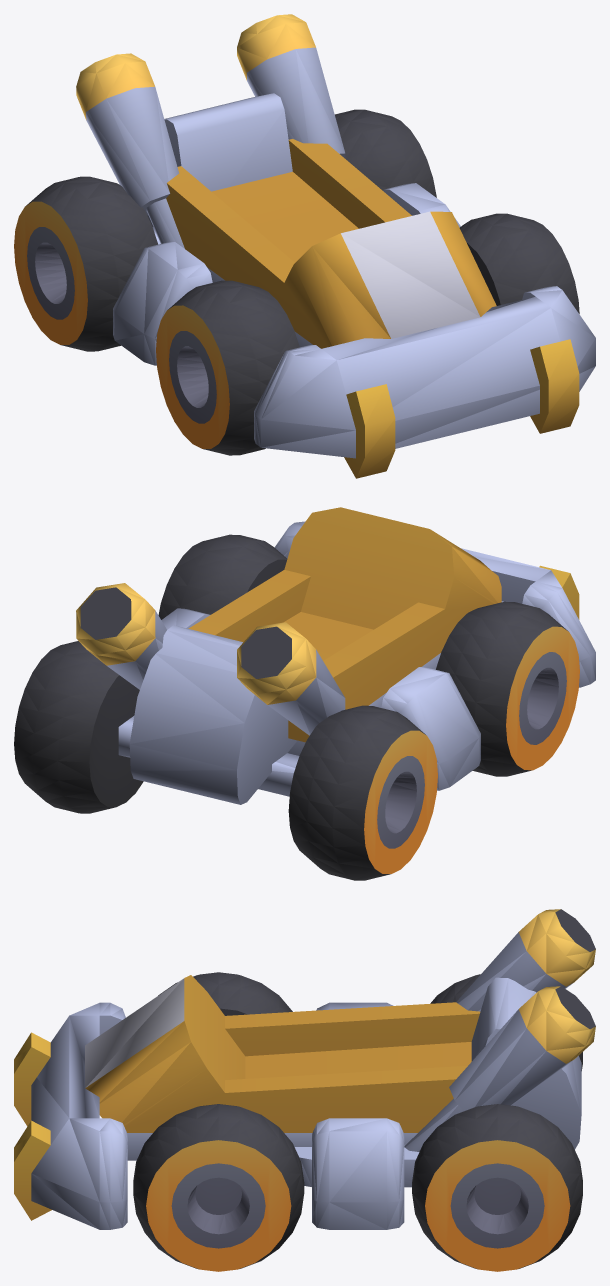
The model's file is style-buggy.glb.
The picture shows the model from 3 angles, top to bottom: view 1: azimuth 30°, elevation 25°; view 2: azimuth 150°, elevation 25°; view 3: azimuth 270°, elevation 25°; orthographic projection.
Parts seen in each view (by area): view 1: body, wheel-back-right, wheel-front-right, wheel-front-left, wheel-back-left; view 2: body, wheel-back-right, wheel-front-right, wheel-back-left, wheel-front-left; view 3: body, wheel-front-left, wheel-back-left, wheel-front-right, wheel-back-right.
Part boxes in pixels (bbox=[...]): body: bbox=[76, 14, 595, 478]; wheel-back-right: bbox=[14, 176, 157, 351]; wheel-front-right: bbox=[156, 280, 299, 455]; wheel-front-left: bbox=[459, 213, 579, 313]; wheel-back-left: bbox=[335, 109, 436, 197]; body: bbox=[76, 507, 595, 804]; wheel-back-right: bbox=[288, 705, 437, 880]; wheel-front-right: bbox=[436, 601, 579, 776]; wheel-back-left: bbox=[14, 641, 143, 813]; wheel-front-left: bbox=[158, 534, 287, 619]; body: bbox=[14, 909, 595, 1229]; wheel-front-left: bbox=[133, 1104, 304, 1271]; wheel-back-left: bbox=[412, 1104, 582, 1271]; wheel-front-right: bbox=[158, 972, 292, 1015]; wheel-back-right: bbox=[430, 974, 582, 1070].
Size of the model in its own units: 2.08 by 1.44 by 3.05.
2 materials, 2 textured.
